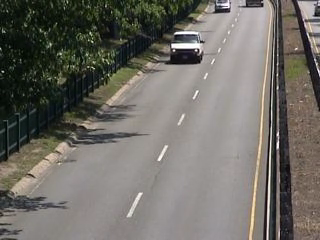car: (213, 1, 233, 14)
truck: (169, 30, 206, 67), (244, 1, 266, 9)
